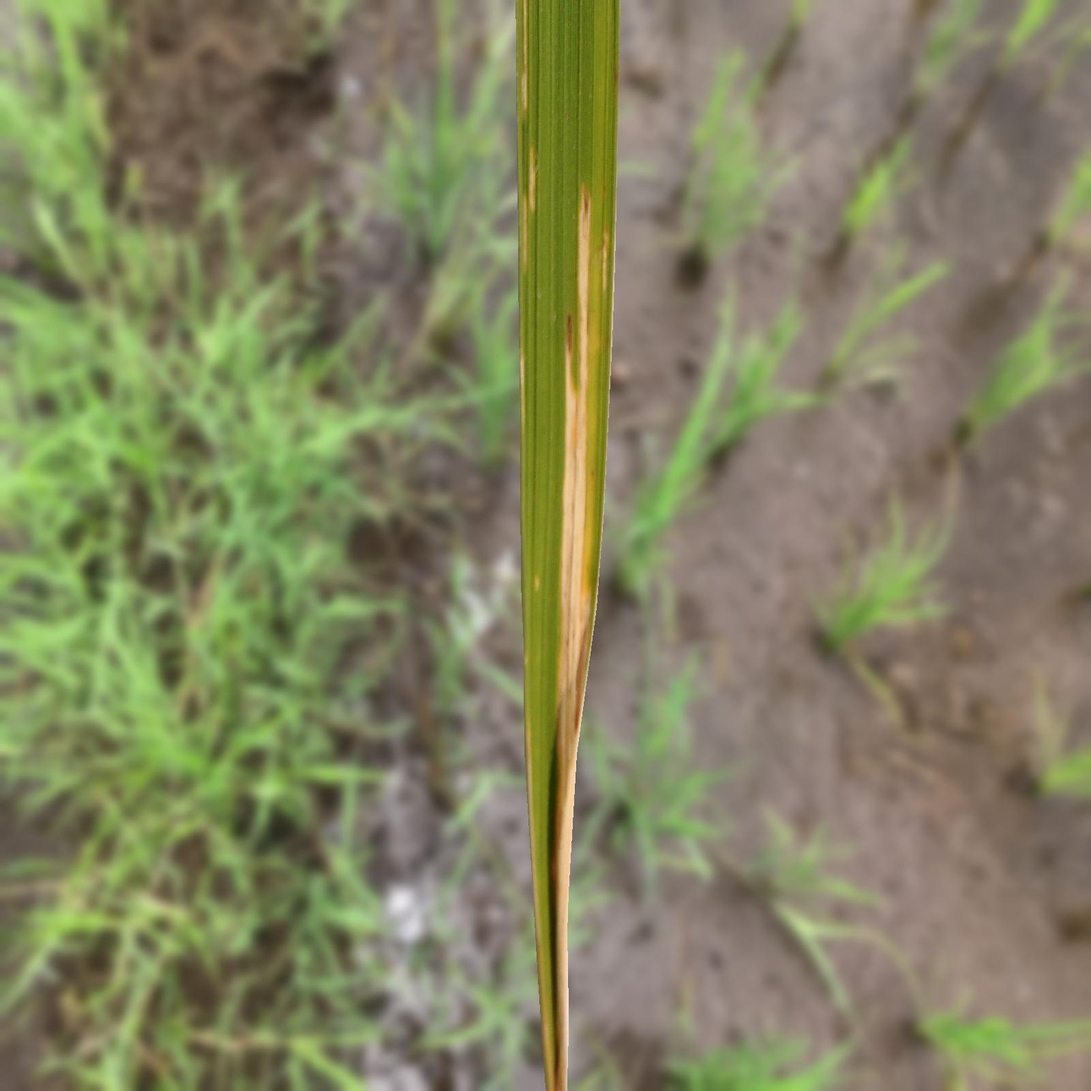BLB: (525, 179, 595, 1090)
LEAF: (515, 0, 620, 1090)
